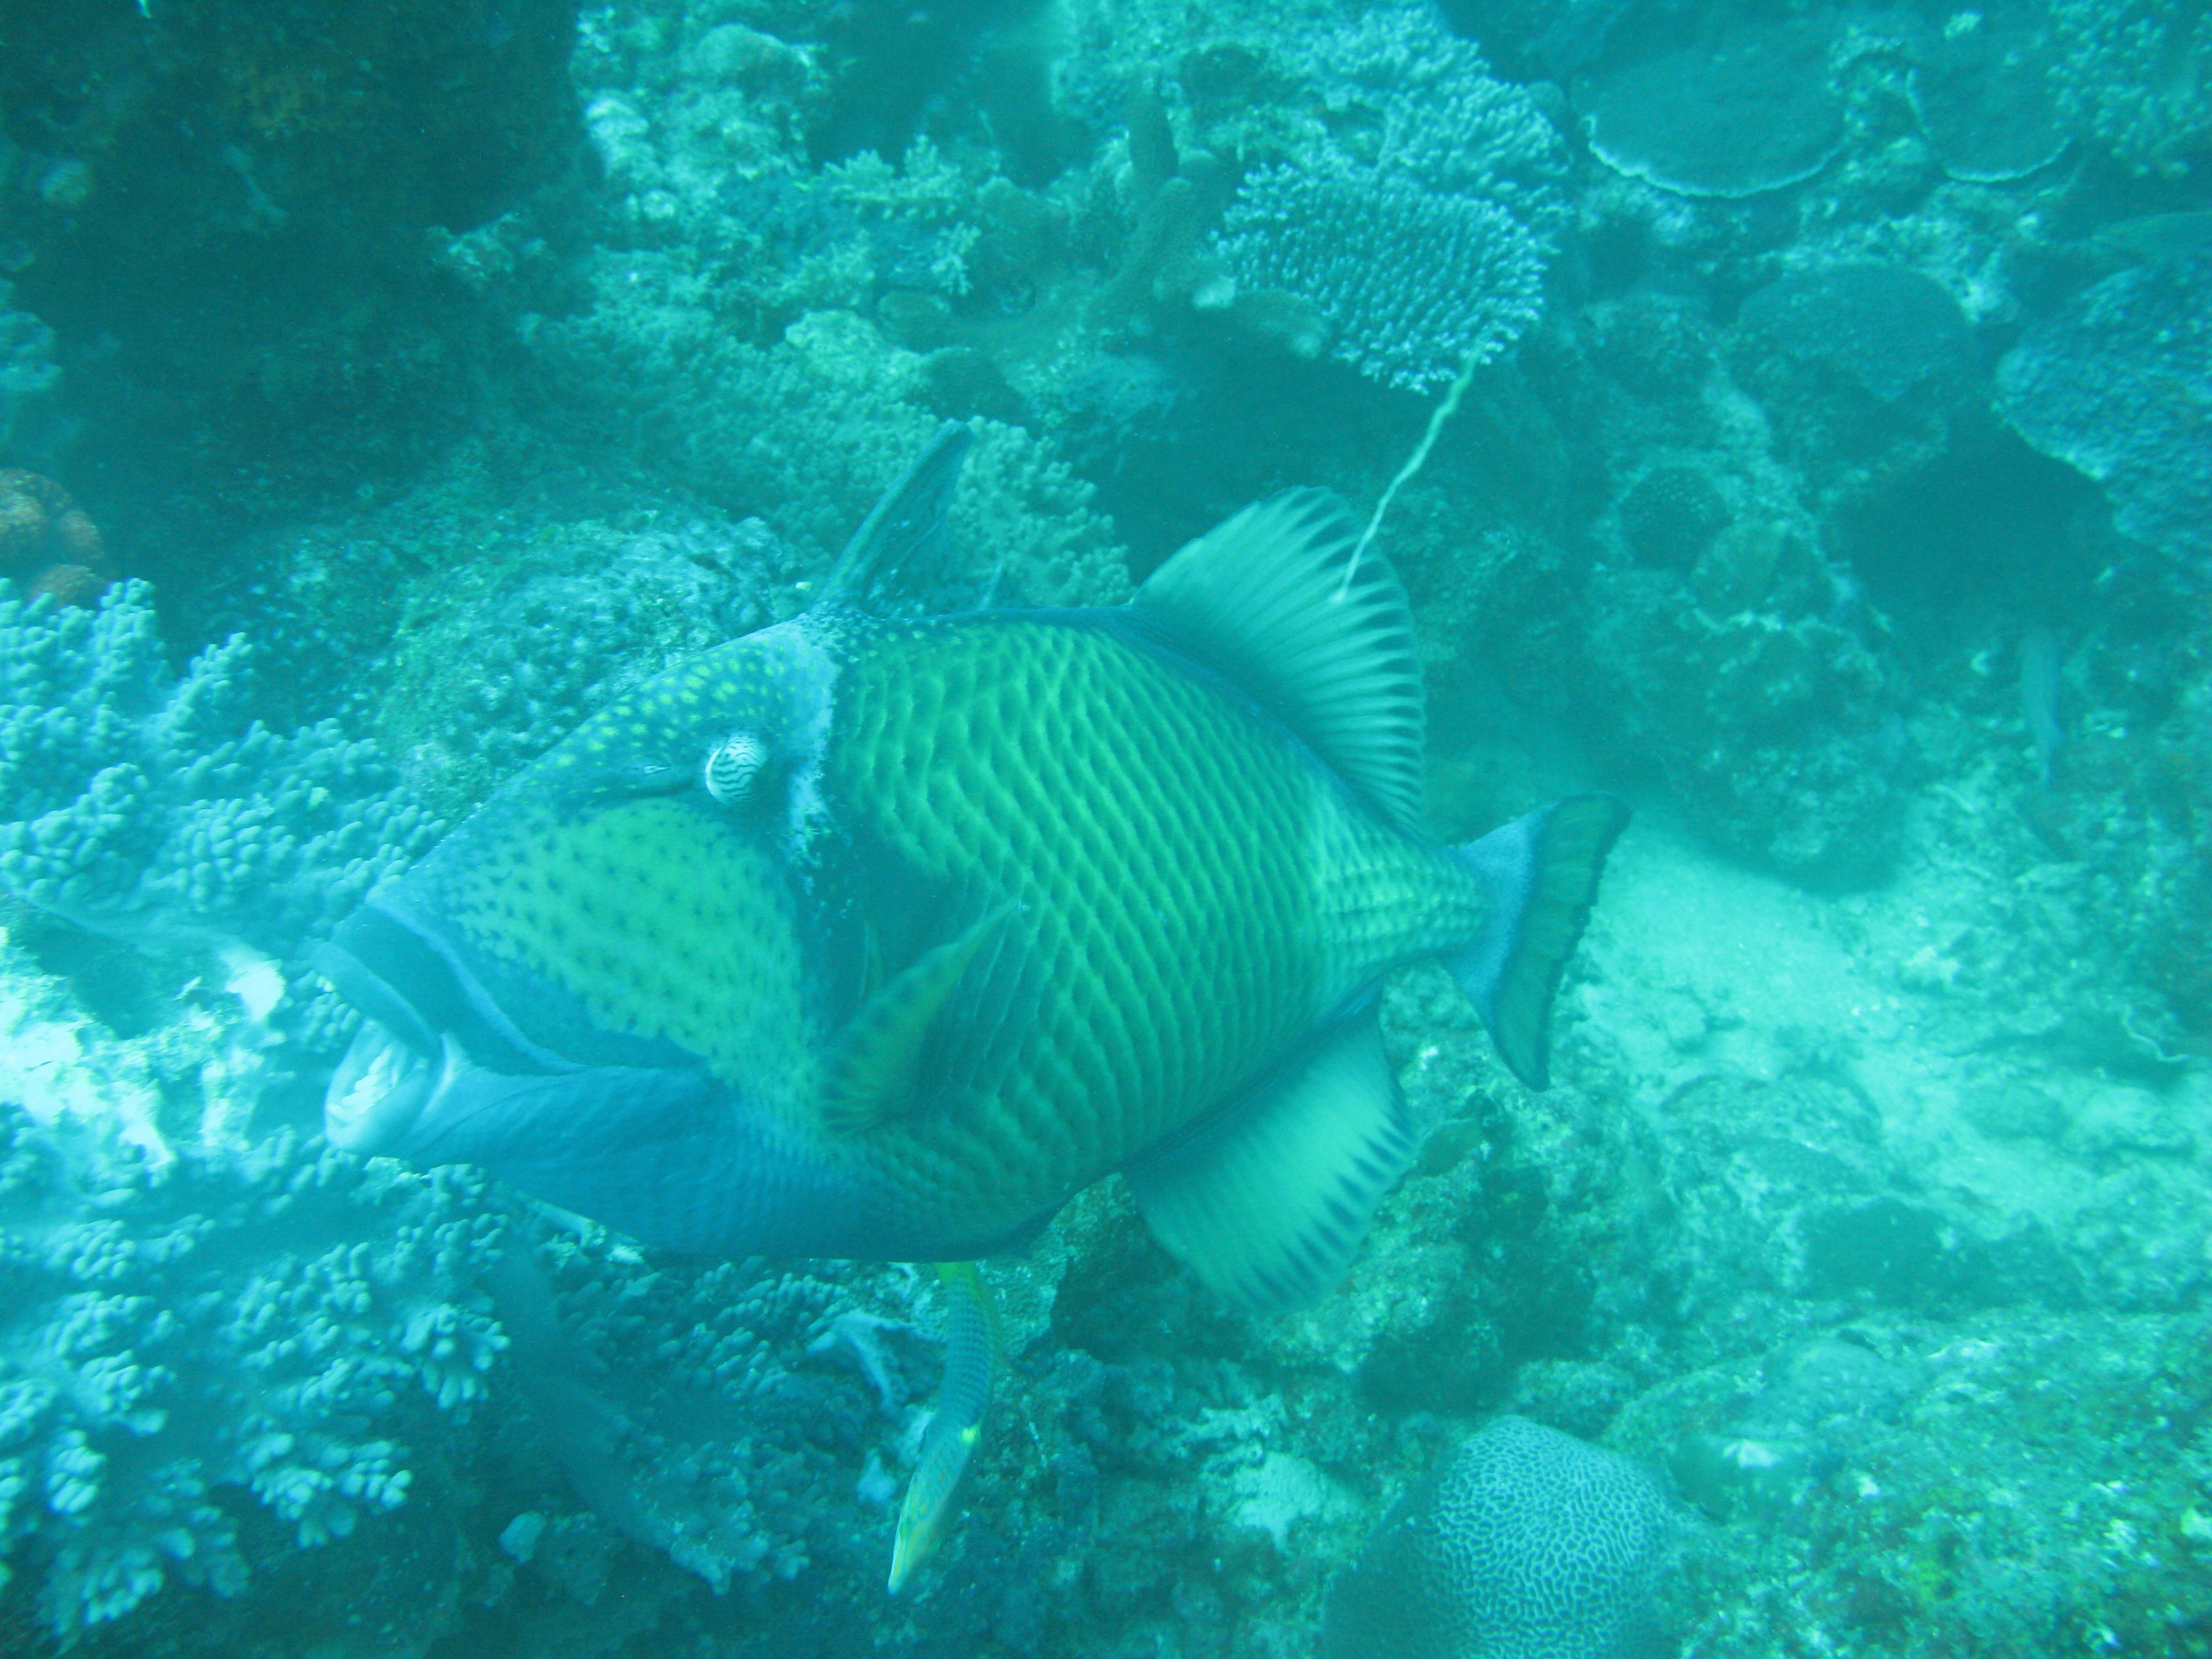Fish: (141, 420, 1853, 1363)
